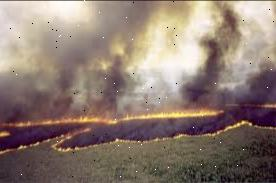fire: (0, 95, 275, 157)
